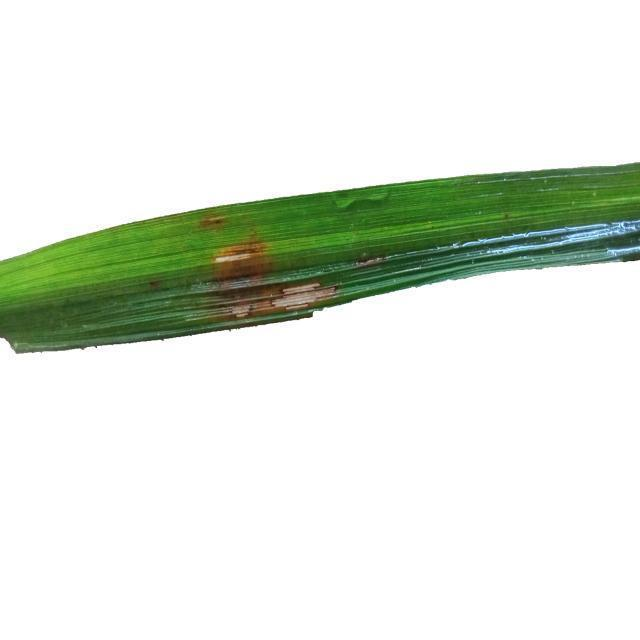Bacterial_Leaf_Blight: (208, 252, 261, 304), (276, 267, 332, 304), (357, 237, 394, 278), (197, 209, 231, 235)
